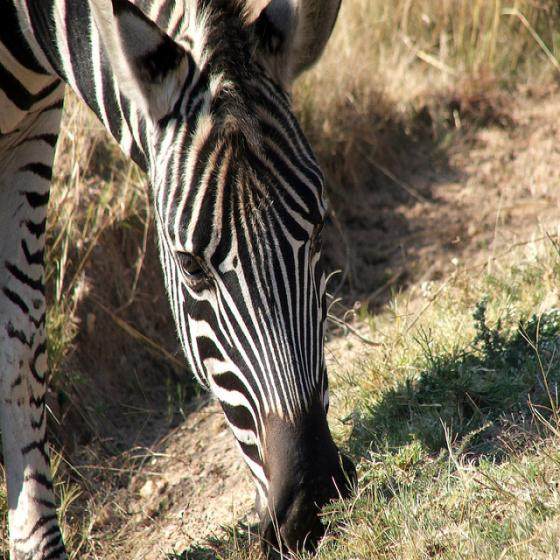zebra: (0, 3, 361, 558)
